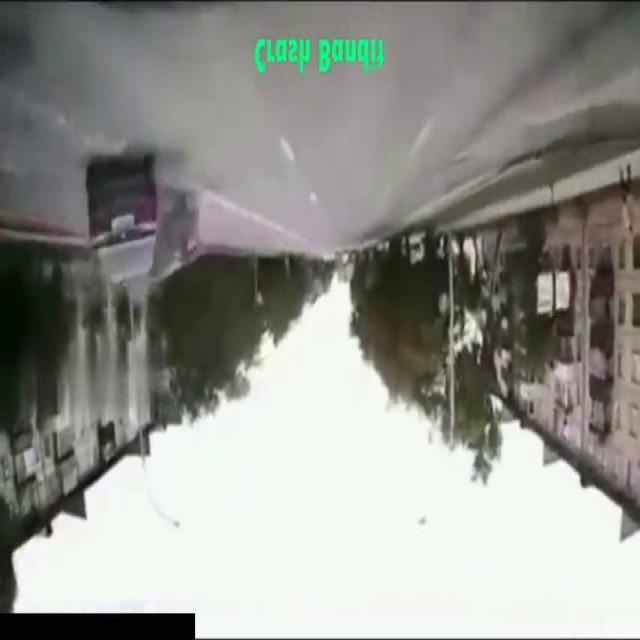moderate: (84, 136, 205, 299)
